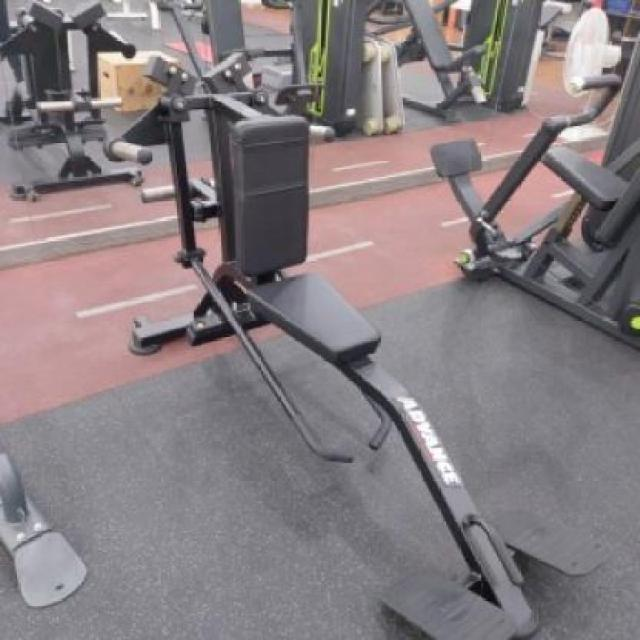lateral raises machine: (100, 55, 429, 468)
